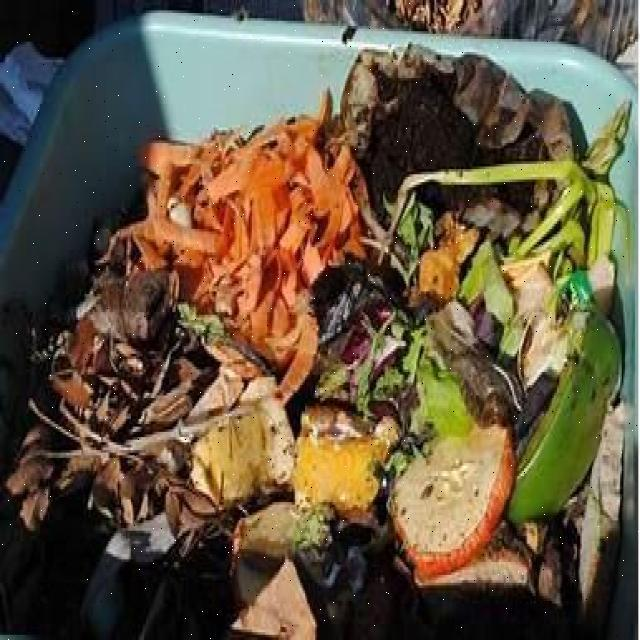Garbage: (0, 14, 638, 638)
